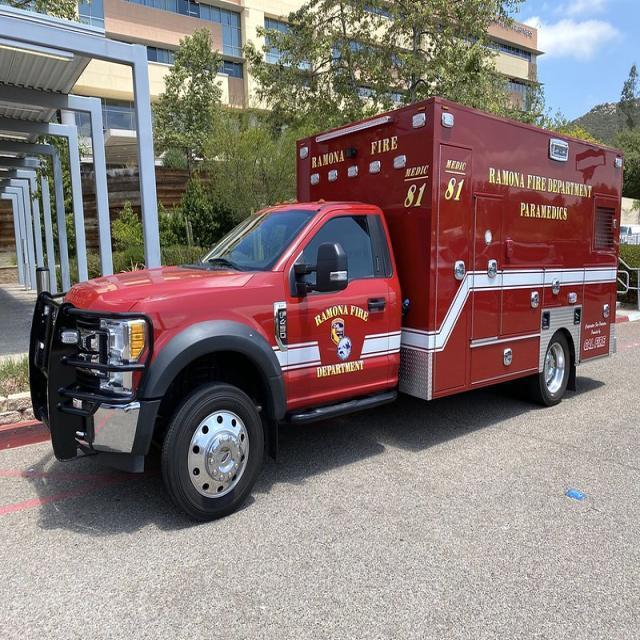emergency: (26, 94, 438, 522)
